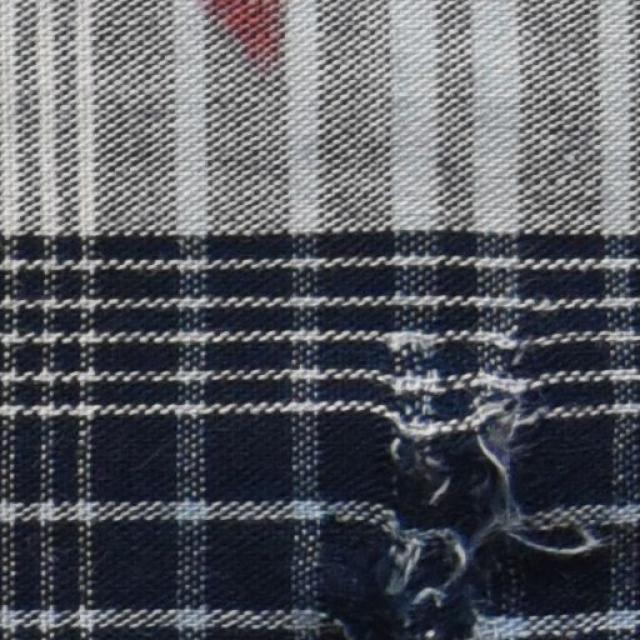Snag: (352, 332, 616, 639)
Stain: (206, 3, 296, 58)
